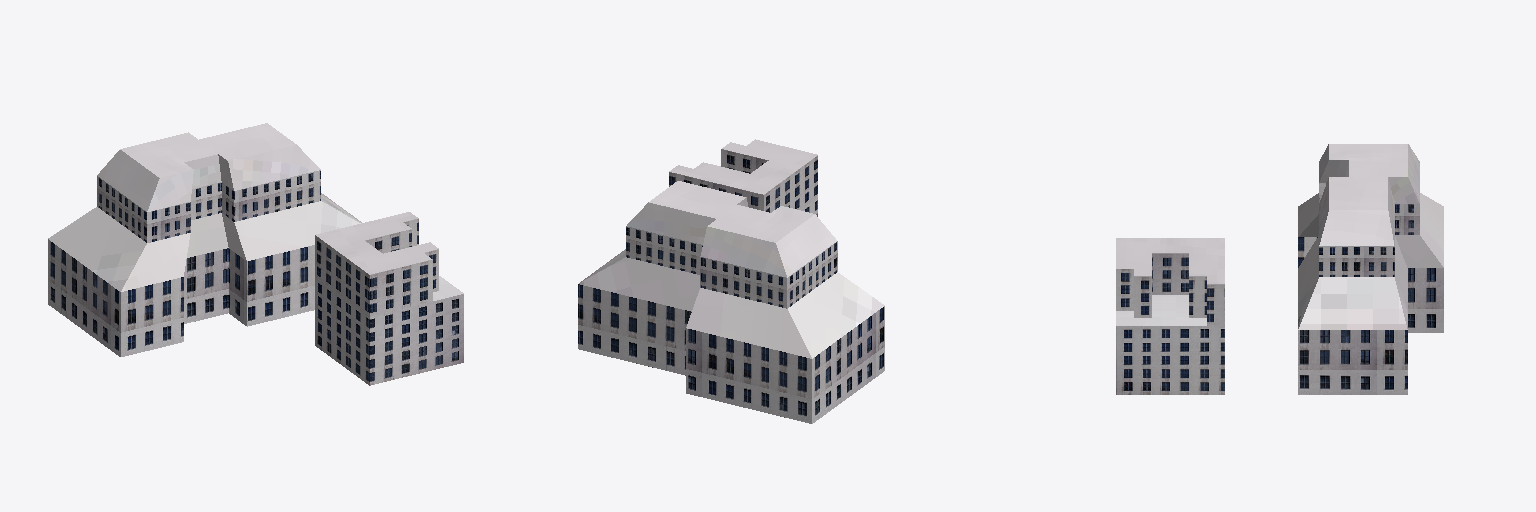
The picture shows the model from 3 angles: view 1: azimuth 30°, elevation 25°; view 2: azimuth 150°, elevation 25°; view 3: azimuth 270°, elevation 25°; orthographic projection.
Parts seen in each view (by area): view 1: rotos_Cube.003; view 2: rotos_Cube.003; view 3: rotos_Cube.003.
Boxes of the visible parts, x1=… form: rotos_Cube.003: x1=48, y1=123, x2=463, y2=385; rotos_Cube.003: x1=578, y1=139, x2=884, y2=423; rotos_Cube.003: x1=1116, y1=144, x2=1443, y2=394.
Bounding box in the file's own units: 2 × 1.17 × 2.25.
1 materials, 1 textured.